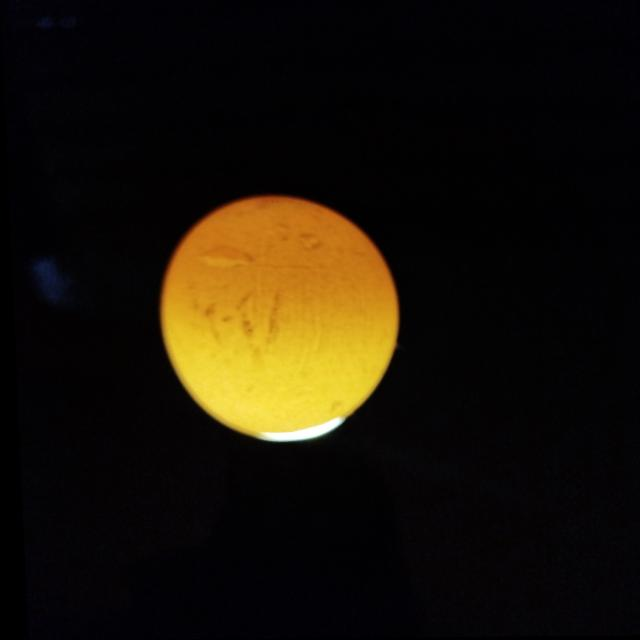Rachadura: (194, 245, 252, 269)
